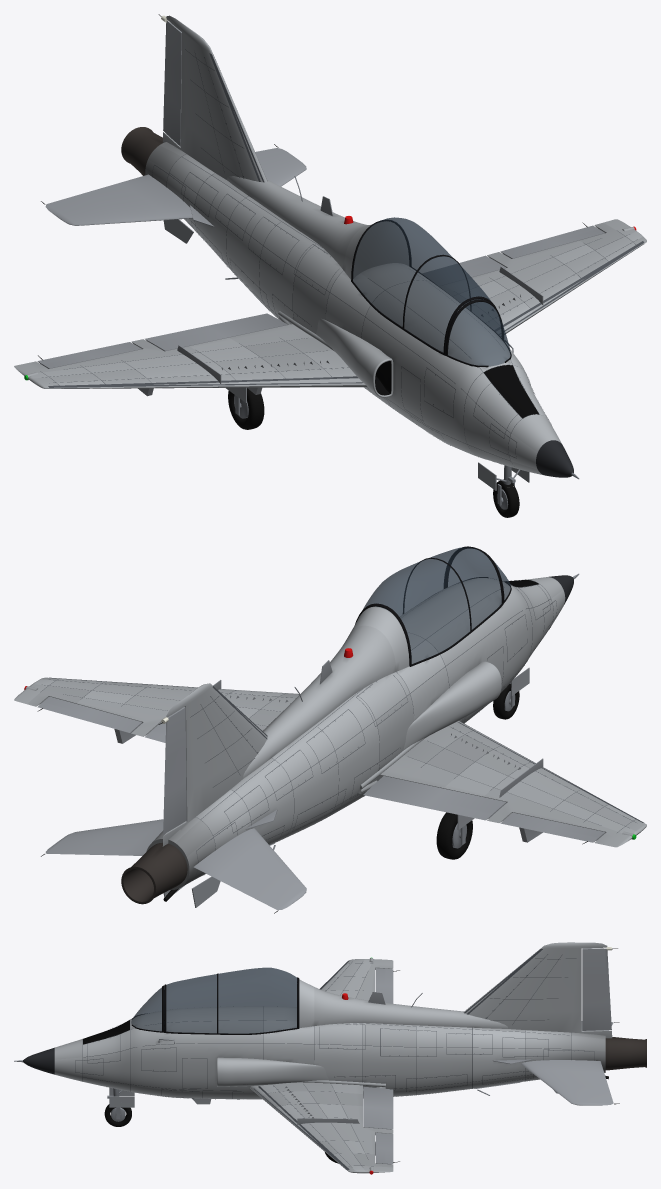
File: jet.glb
3 views of the same model, one above another, from view 1: azimuth 30°, elevation 25°; view 2: azimuth 150°, elevation 25°; view 3: azimuth 270°, elevation 25° (orthographic). The views are drawn at different scales.
Visible parts, largest first — view 1: fuselage, canopy, elevator, gear, flap_r, rudder, flap_l, aileron_l, aileron_r; view 2: fuselage, canopy, elevator, flap_r, rudder, gear, aileron_l, aileron_r; view 3: fuselage, canopy, elevator, rudder, flap_l, gear, aileron_l, aileron_r.
Boxes of the visible parts, box(x1,y1,x2,y2) form: fuselage: box(14, 15, 646, 479); canopy: box(351, 217, 502, 355); elevator: box(41, 144, 306, 225); gear: box(226, 387, 529, 517); flap_r: box(145, 313, 287, 351); rudder: box(158, 14, 181, 146); flap_l: box(422, 255, 505, 285); aileron_l: box(500, 222, 604, 258); aileron_r: box(37, 342, 141, 368); fuselage: box(14, 548, 646, 907); canopy: box(355, 546, 503, 666); elevator: box(41, 819, 306, 913); flap_r: box(363, 776, 506, 820); rudder: box(158, 707, 186, 834); gear: box(436, 667, 529, 859); aileron_l: box(37, 696, 141, 732); aileron_r: box(500, 812, 605, 844); fuselage: box(14, 942, 646, 1174); canopy: box(164, 967, 299, 1034); elevator: box(521, 1021, 619, 1105); rudder: box(582, 948, 617, 1030); flap_l: box(363, 1086, 393, 1129); gear: box(104, 1087, 338, 1163); aileron_l: box(375, 1132, 399, 1164); aileron_r: box(375, 968, 399, 1003).
Size of the model in its own units: 9.94 by 3.98 by 12.43.
